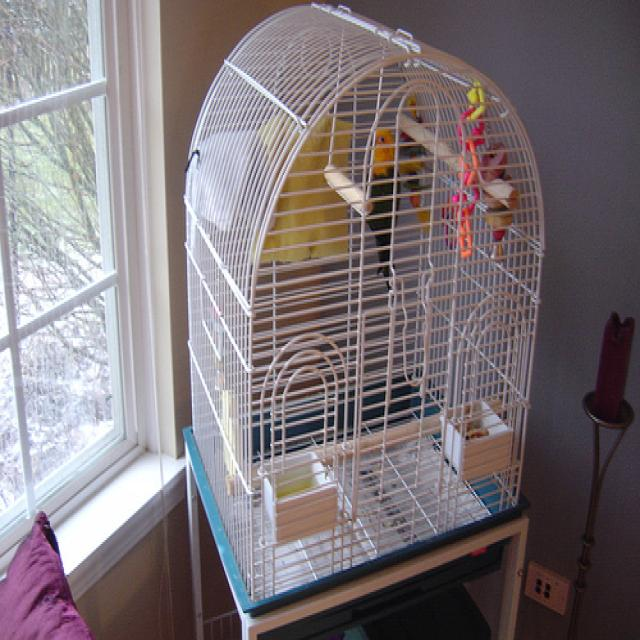bird: (352, 124, 403, 285)
